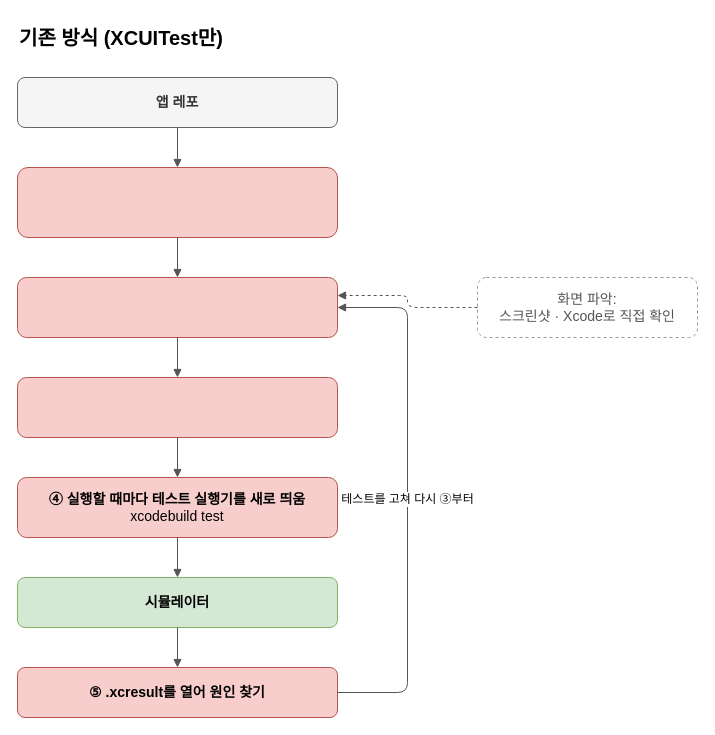
This 715x735 diagram has some shape labels left out. Here are the shapes that lost their labels. From the top down, the centre of each, then its label:
At [177,202]: "① 화면마다 accessibilityIdentifier 추가 앱 코드 수정 · 리뷰 · 브랜치 충돌".
At [177,307]: "② 앱 안 UI 테스트 타깃 Swift로 테스트 작성".
At [177,407]: "③ 고칠 때마다 컴파일 xcodebuild build".
